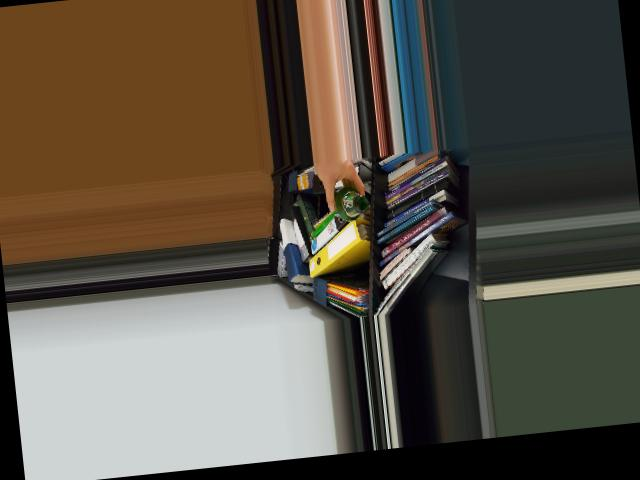beer: (329, 185, 369, 222)
